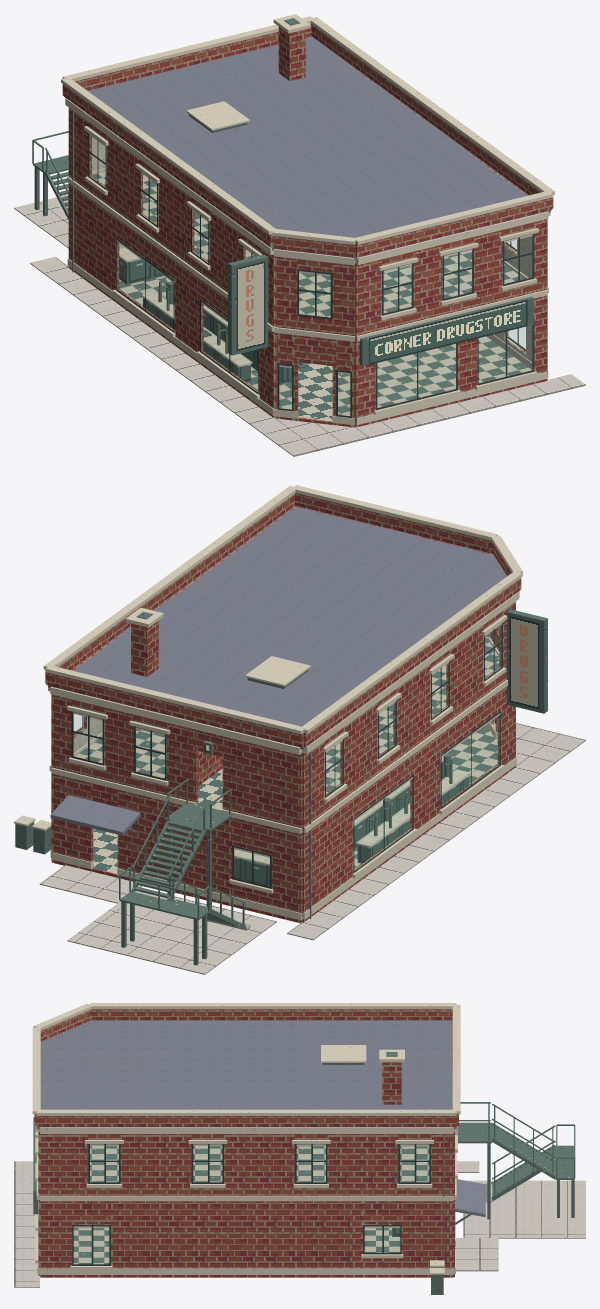
Rendered from corner-drugstore-family.glb.
The picture shows the model from 3 angles, top to bottom: view 1: azimuth 30°, elevation 25°; view 2: azimuth 150°, elevation 25°; view 3: azimuth 270°, elevation 25°; orthographic projection. The views are drawn at different scales.
Visible parts, largest first — view 1: structure__wall_brick, structure__roof_membrane, structure__detail_stone, structure__glass_shop, structure__ground_floor, lot__ground_paving, sign_name, projecting_trade_sign__sign_name, fountain__detail_panels, exterior_stairs__detail_steel, structure__detail_steel, projecting_trade_sign__detail_steel (+2 smaller); view 2: structure__wall_brick, structure__roof_membrane, structure__detail_stone, lot__ground_paving, structure__glass_shop, exterior_stairs__detail_steel, structure__ground_floor, projecting_trade_sign__sign_name, fountain__detail_panels, projecting_trade_sign__detail_steel, fountain__detail_enamel, structure__detail_steel (+2 smaller); view 3: structure__wall_brick, structure__roof_membrane, structure__detail_stone, lot__ground_paving, structure__glass_shop, structure__ground_floor, exterior_stairs__detail_steel, structure__detail_steel.
Boxes of the visible parts, left/top/right/bottom form: structure__wall_brick: left=62, top=24, right=553, bottom=427; structure__roof_membrane: left=65, top=36, right=550, bottom=259; structure__detail_stone: left=61, top=14, right=554, bottom=425; structure__glass_shop: left=88, top=133, right=534, bottom=417; structure__ground_floor: left=92, top=171, right=531, bottom=421; lot__ground_paving: left=14, top=194, right=585, bottom=456; sign_name: left=369, top=299, right=527, bottom=364; projecting_trade_sign__sign_name: left=236, top=261, right=265, bottom=350; fountain__detail_panels: left=143, top=282, right=292, bottom=383; exterior_stairs__detail_steel: left=32, top=131, right=68, bottom=219; structure__detail_steel: left=72, top=18, right=533, bottom=366; projecting_trade_sign__detail_steel: left=228, top=254, right=268, bottom=355; structure__wall_brick: left=45, top=493, right=521, bottom=923; structure__roof_membrane: left=48, top=505, right=506, bottom=835; structure__detail_stone: left=43, top=485, right=522, bottom=920; lot__ground_paving: left=39, top=719, right=585, bottom=974; structure__glass_shop: left=71, top=622, right=502, bottom=888; exterior_stairs__detail_steel: left=119, top=778, right=246, bottom=965; structure__ground_floor: left=75, top=640, right=499, bottom=873; projecting_trade_sign__sign_name: left=509, top=616, right=539, bottom=708; fountain__detail_panels: left=353, top=762, right=469, bottom=863; projecting_trade_sign__detail_steel: left=506, top=609, right=547, bottom=713; fountain__detail_enamel: left=353, top=753, right=470, bottom=847; structure__detail_steel: left=61, top=611, right=311, bottom=918; structure__wall_brick: left=34, top=1009, right=458, bottom=1277; structure__roof_membrane: left=36, top=1020, right=485, bottom=1217; structure__detail_stone: left=32, top=1003, right=460, bottom=1274; lot__ground_paving: left=14, top=1161, right=585, bottom=1287; structure__glass_shop: left=72, top=1144, right=430, bottom=1265; structure__ground_floor: left=72, top=1146, right=429, bottom=1264; exterior_stairs__detail_steel: left=458, top=1102, right=575, bottom=1219; structure__detail_steel: left=33, top=1052, right=475, bottom=1277.
Size of what is drawn, in the model's own units: 15.75 by 10.58 by 27.47.
12 materials, 12 textured.
